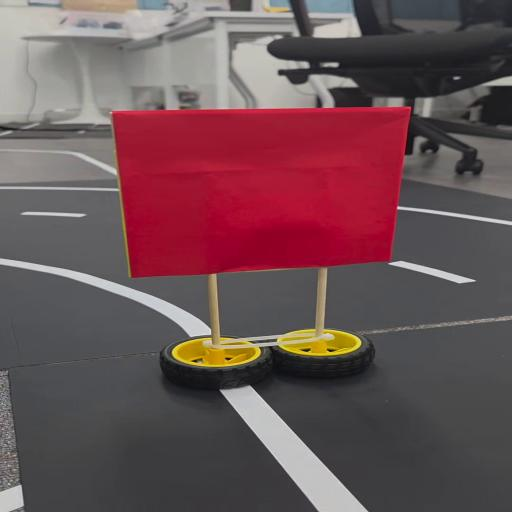Sign_A: (108, 99, 416, 385)
